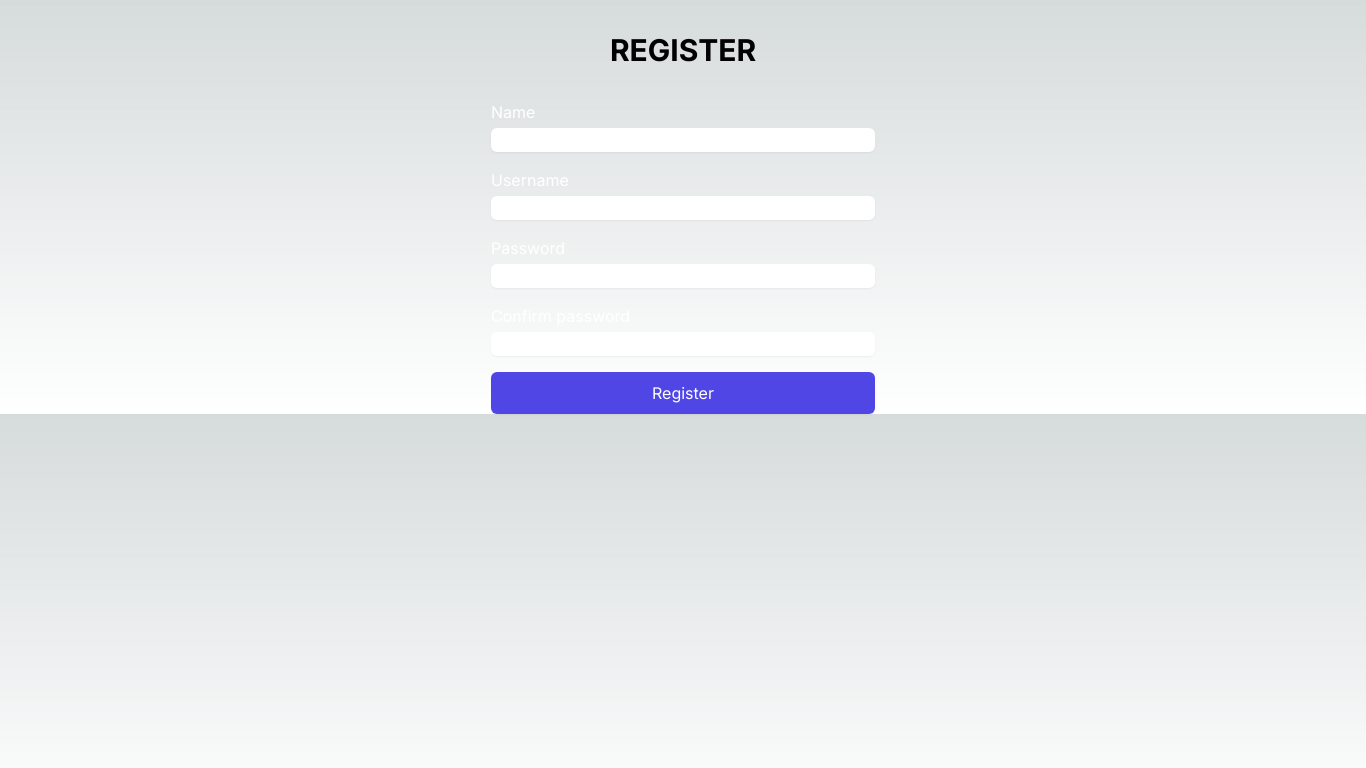
Test: LoginForm › should display error message for empty fields
This screenshot has width=1366, height=768.
Click the button "Register". click: (683, 393)
box: [491,372,875,414]
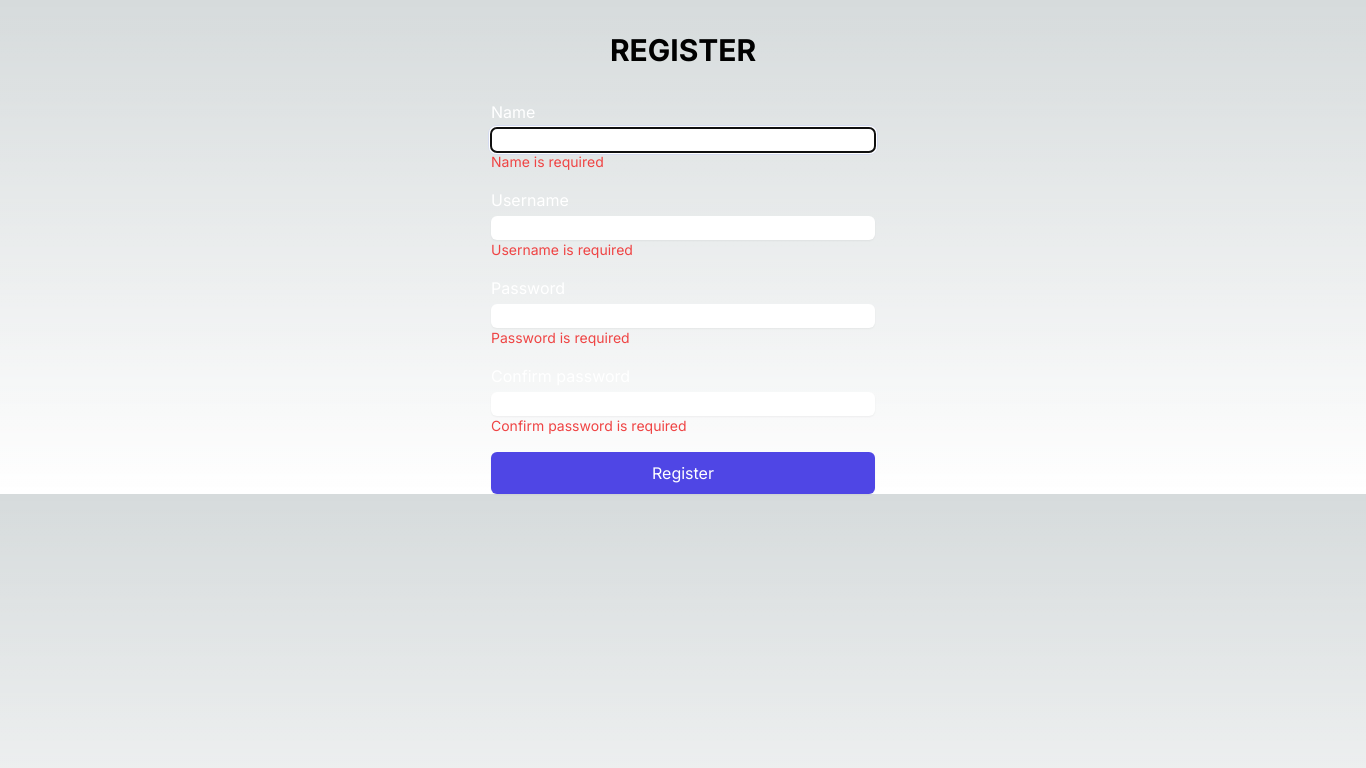
Now the text "Name is required" is shown, box [491,153,604,170]
Now the text "Username is required" is shown, box [491,241,633,258]
Now the text "Password is required" is shown, box [491,329,630,346]
